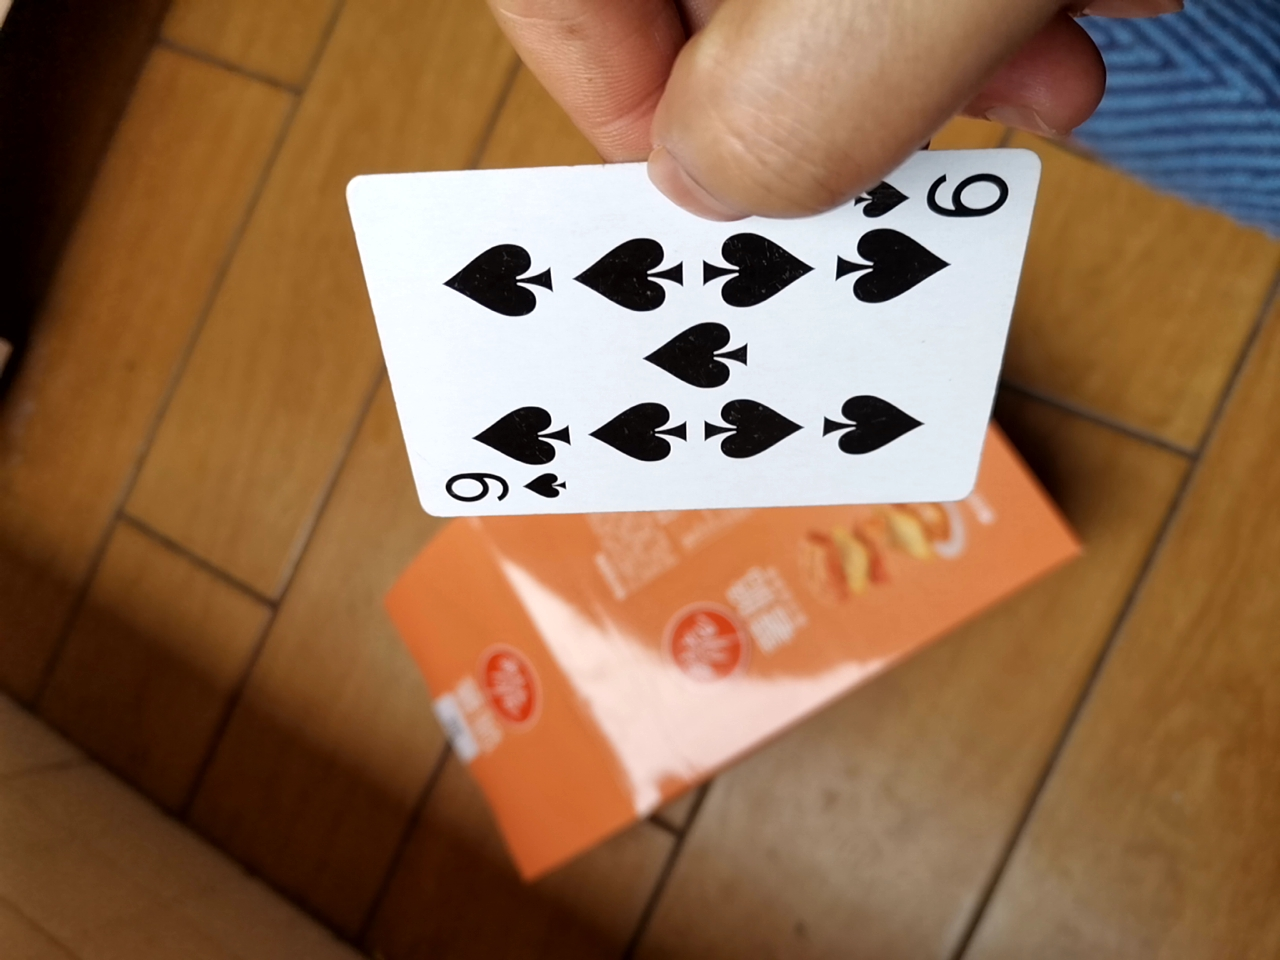ht 9: (368, 142, 1028, 523)
